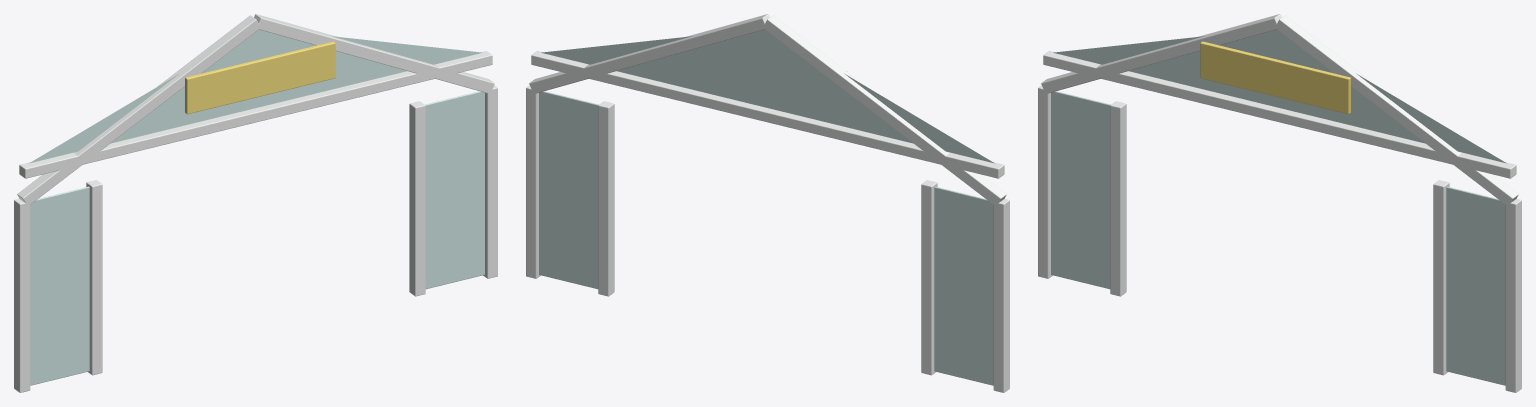
The model's file is gewaechshaus_giebel.glb.
The picture shows the model from 3 angles, left to right: view 1: azimuth 30°, elevation 25°; view 2: azimuth 150°, elevation 25°; view 3: azimuth 330°, elevation 25°; orthographic projection.
Parts seen in each view (by area): view 1: gewaechshaus_giebel_lod0; view 2: gewaechshaus_giebel_lod0; view 3: gewaechshaus_giebel_lod0.
Boxes of the visible parts, x1,y1,x2,y2 form: gewaechshaus_giebel_lod0: (14, 14, 497, 392); gewaechshaus_giebel_lod0: (526, 14, 1009, 392); gewaechshaus_giebel_lod0: (1038, 14, 1521, 392).
Size of what is drawn, in the model's own units: 22.5 by 14.21 by 0.7.
